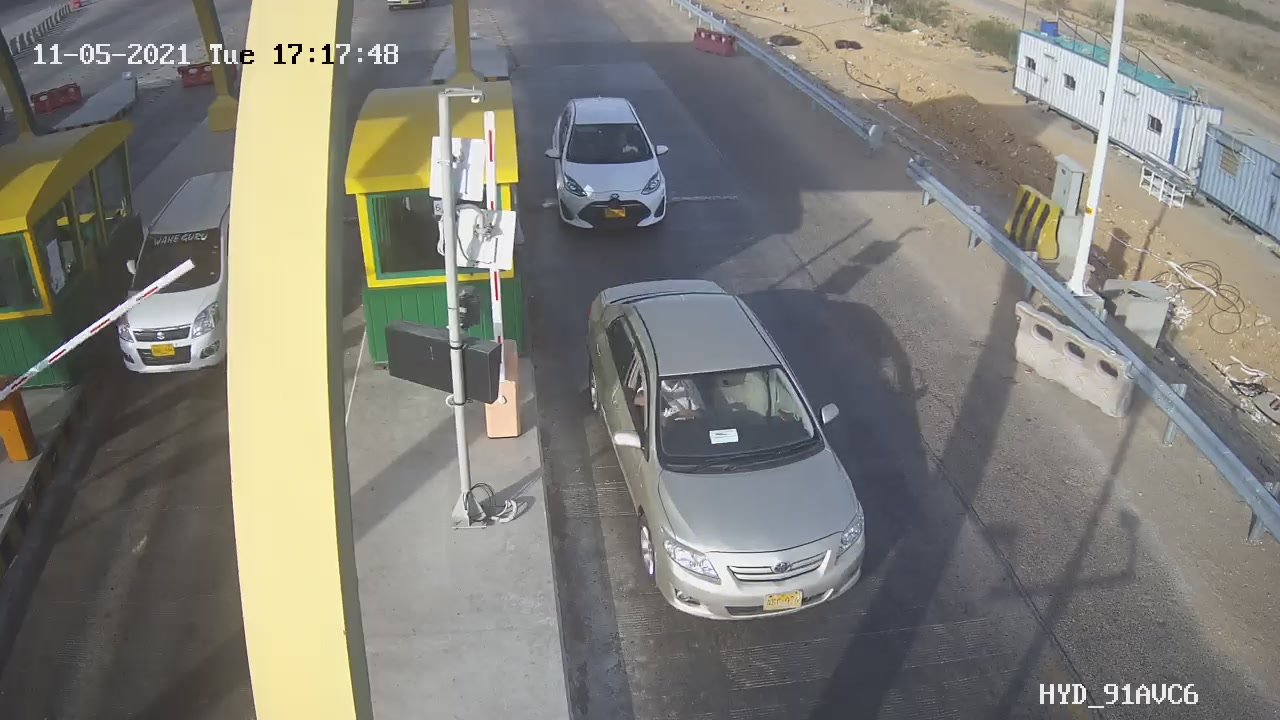F1: (529, 85, 689, 249)
